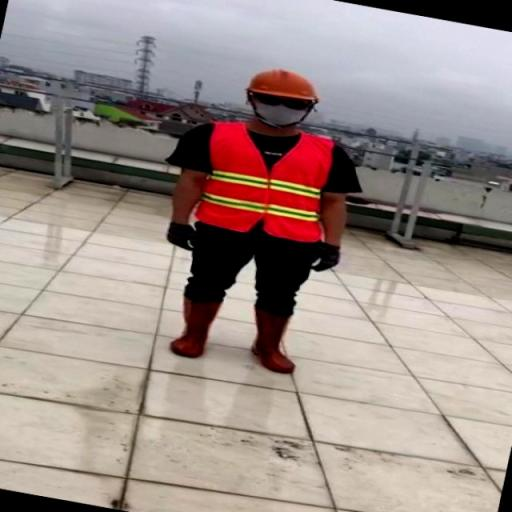Person: (172, 63, 354, 399)
boots: (243, 297, 306, 389), (162, 272, 228, 358)
gloves: (308, 242, 350, 280), (164, 219, 198, 255)
goggles: (249, 92, 321, 114)
helmet: (243, 58, 323, 100)
vest: (190, 112, 336, 254)
